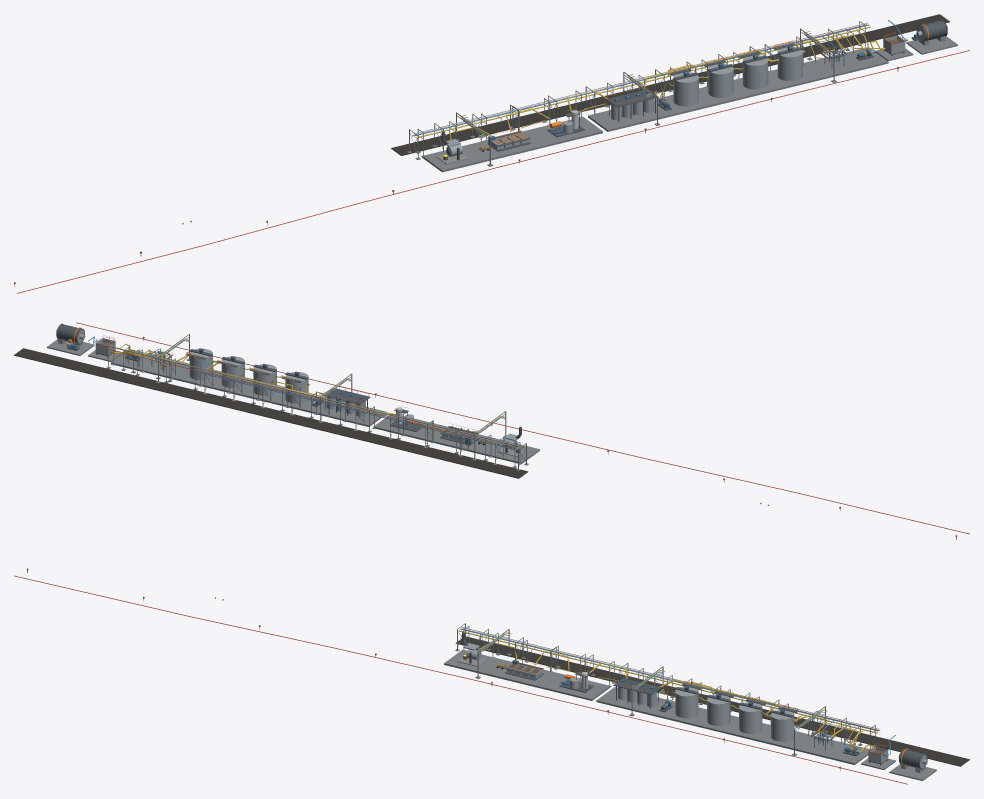
The model's file is PULPA_LAB_V50_PROCESS.glb.
The picture shows the model from 3 angles, top to bottom: view 1: azimuth 30°, elevation 25°; view 2: azimuth 150°, elevation 25°; view 3: azimuth 330°, elevation 25°; orthographic projection. The views are drawn at different scales.
Visible parts, largest first — view 1: V49_PROCESS_ACCESS_ROAD, V49_PAD_LEACH_CIP, V49_PAD_RECOVERY, V21_FIREWATER_RING, V49_PAD_CLASS_PUMP, R-02_SHELL, R-04_SHELL, R-03_SHELL, R-01_SHELL, V19_HEADER_PROCESS, V19_HEADER_WATER; view 2: V49_PROCESS_ACCESS_ROAD, V49_PAD_LEACH_CIP, V49_PAD_RECOVERY, V21_FIREWATER_RING, V49_PAD_CLASS_PUMP, R-01_SHELL, V19_HEADER_CHEM, R-02_SHELL, R-03_SHELL, R-04_SHELL, V19_HEADER_AIR, V16_UTILITY_WATER_HEADER; view 3: V49_PROCESS_ACCESS_ROAD, V49_PAD_LEACH_CIP, V49_PAD_RECOVERY, V21_FIREWATER_RING, V49_PAD_CLASS_PUMP, R-04_SHELL, R-02_SHELL, R-03_SHELL, R-01_SHELL, V19_HEADER_PROCESS, V19_HEADER_WATER, V19_HEADER_AIR.
Boxes of the visible parts, x1,y1,x2,y2 form: V49_PROCESS_ACCESS_ROAD: [391, 14, 949, 155]; V49_PAD_LEACH_CIP: [588, 62, 827, 131]; V49_PAD_RECOVERY: [422, 117, 602, 172]; V21_FIREWATER_RING: [17, 50, 969, 293]; V49_PAD_CLASS_PUMP: [803, 49, 888, 79]; R-02_SHELL: [742, 55, 768, 89]; R-04_SHELL: [673, 72, 698, 106]; R-03_SHELL: [708, 63, 733, 97]; R-01_SHELL: [777, 46, 802, 80]; V19_HEADER_PROCESS: [416, 26, 870, 138]; V19_HEADER_WATER: [415, 24, 869, 135]; V49_PROCESS_ACCESS_ROAD: [14, 348, 528, 478]; V49_PAD_LEACH_CIP: [167, 362, 387, 426]; V49_PAD_RECOVERY: [373, 414, 539, 463]; V21_FIREWATER_RING: [76, 322, 969, 534]; V49_PAD_CLASS_PUMP: [111, 350, 189, 378]; R-01_SHELL: [189, 348, 212, 380]; V19_HEADER_CHEM: [104, 347, 521, 450]; R-02_SHELL: [221, 356, 244, 387]; R-03_SHELL: [253, 364, 276, 395]; R-04_SHELL: [285, 372, 308, 403]; V19_HEADER_AIR: [105, 344, 522, 447]; V16_UTILITY_WATER_HEADER: [196, 371, 521, 451]; V49_PROCESS_ACCESS_ROAD: [455, 636, 969, 766]; V49_PAD_LEACH_CIP: [596, 687, 817, 751]; V49_PAD_RECOVERY: [444, 649, 610, 700]; V21_FIREWATER_RING: [14, 575, 907, 784]; V49_PAD_CLASS_PUMP: [795, 737, 870, 764]; R-04_SHELL: [675, 686, 698, 718]; R-02_SHELL: [739, 702, 762, 733]; R-03_SHELL: [707, 694, 730, 725]; R-01_SHELL: [771, 710, 794, 741]; V19_HEADER_PROCESS: [459, 630, 877, 733]; V19_HEADER_WATER: [460, 628, 877, 731]; V19_HEADER_AIR: [461, 627, 879, 729].
Bounding box in the file's own units: 311 × 9.92 × 31.9.
